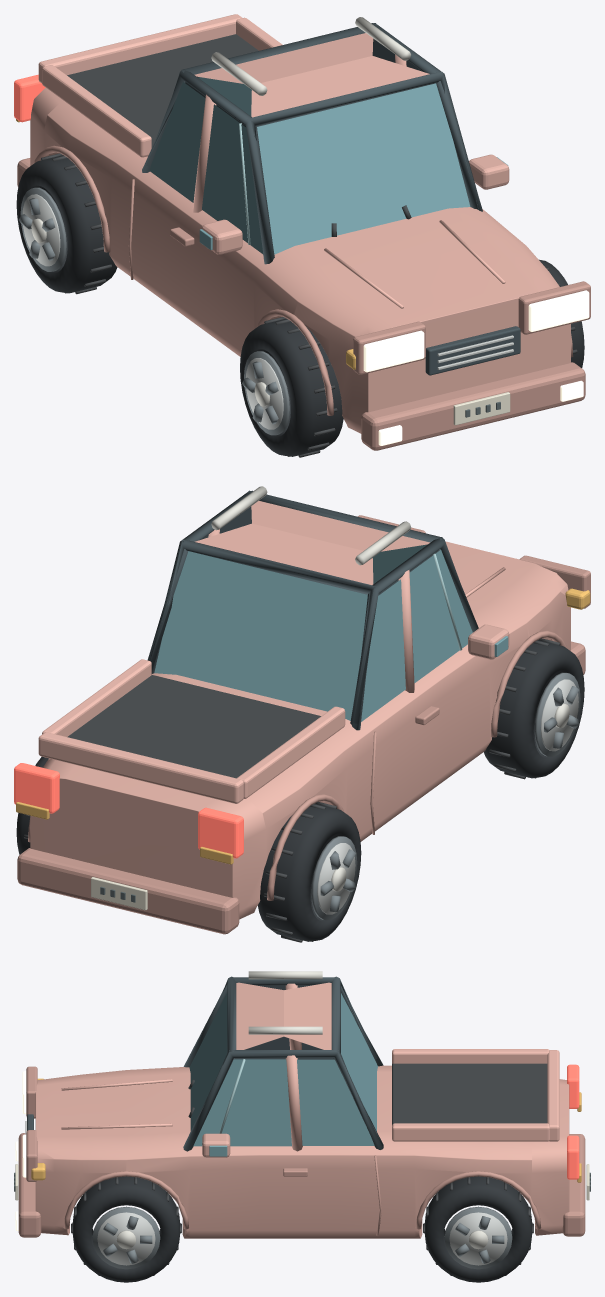
Rendered from car_03.fbx.
3 views of the same model, one above another, from view 1: azimuth 30°, elevation 25°; view 2: azimuth 150°, elevation 25°; view 3: azimuth 270°, elevation 25° (orthographic). The views are drawn at different scales.
Visible parts, largest first — view 1: Body_SculptedShell, FrontWindscreen, Roof_CrownedPanel, FrontBumper, Tyre_FL, UteBedInlay, Tyre_RL, SideWindow_L_0, SideWindow_L_1, UteTailgateLip, WindowOutline_L, UteBedSideRail_L (+28 smaller); view 2: Body_SculptedShell, RearWindow, UteBedInlay, Roof_CrownedPanel, RearBumper, Tyre_RL, Tyre_FL, UteTailgateLip, SideWindow_L_0, SideWindow_L_1, UteBedSideRail_L, WindowOutline_L (+23 smaller); view 3: Body_SculptedShell, UteBedInlay, SideWindow_R_0, Tyre_FR, Tyre_RR, Roof_CrownedPanel, SideWindow_R_1, UteBedSideRail_R, WindowOutline_R, RearWindow, FrontWindscreen, UteBedSideRail_L (+23 smaller).
Boxes of the visible parts, x1,y1,x2,y2 form: Body_SculptedShell: (30, 88, 570, 433); FrontWindscreen: (257, 83, 470, 254); Roof_CrownedPanel: (194, 33, 429, 117); FrontBumper: (361, 362, 585, 450); Tyre_FL: (240, 318, 343, 456); UteBedInlay: (67, 34, 258, 147); Tyre_RL: (16, 155, 117, 293); SideWindow_L_0: (202, 104, 263, 254); SideWindow_L_1: (149, 82, 205, 202); UteTailgateLip: (38, 14, 242, 82); WindowOutline_L: (143, 69, 274, 261); UteBedSideRail_L: (42, 65, 151, 157); Body_SculptedShell: (30, 541, 570, 919); RearWindow: (154, 551, 367, 720); UteBedInlay: (67, 675, 320, 778); Roof_CrownedPanel: (195, 501, 429, 584); RearBumper: (17, 848, 239, 934); Tyre_RL: (258, 803, 361, 941); Tyre_FL: (484, 640, 584, 778); UteTailgateLip: (38, 732, 243, 803); SideWindow_L_0: (409, 550, 472, 682); SideWindow_L_1: (361, 579, 405, 721); UteBedSideRail_L: (237, 706, 345, 798); WindowOutline_L: (350, 537, 478, 725); Body_SculptedShell: (35, 1065, 569, 1238); UteBedInlay: (392, 1063, 547, 1125); SideWindow_R_0: (193, 1059, 291, 1146); Tyre_FR: (72, 1176, 180, 1282); Tyre_RR: (424, 1176, 532, 1282); Roof_CrownedPanel: (236, 982, 331, 1049); SideWindow_R_1: (297, 1059, 374, 1145); UteBedSideRail_R: (392, 1123, 549, 1141); WindowOutline_R: (183, 1050, 383, 1151); RearWindow: (341, 993, 377, 1131); FrontWindscreen: (189, 993, 227, 1130); UteBedSideRail_L: (392, 1049, 549, 1063).
Size of the model in its own units: 264 by 242 by 544.
